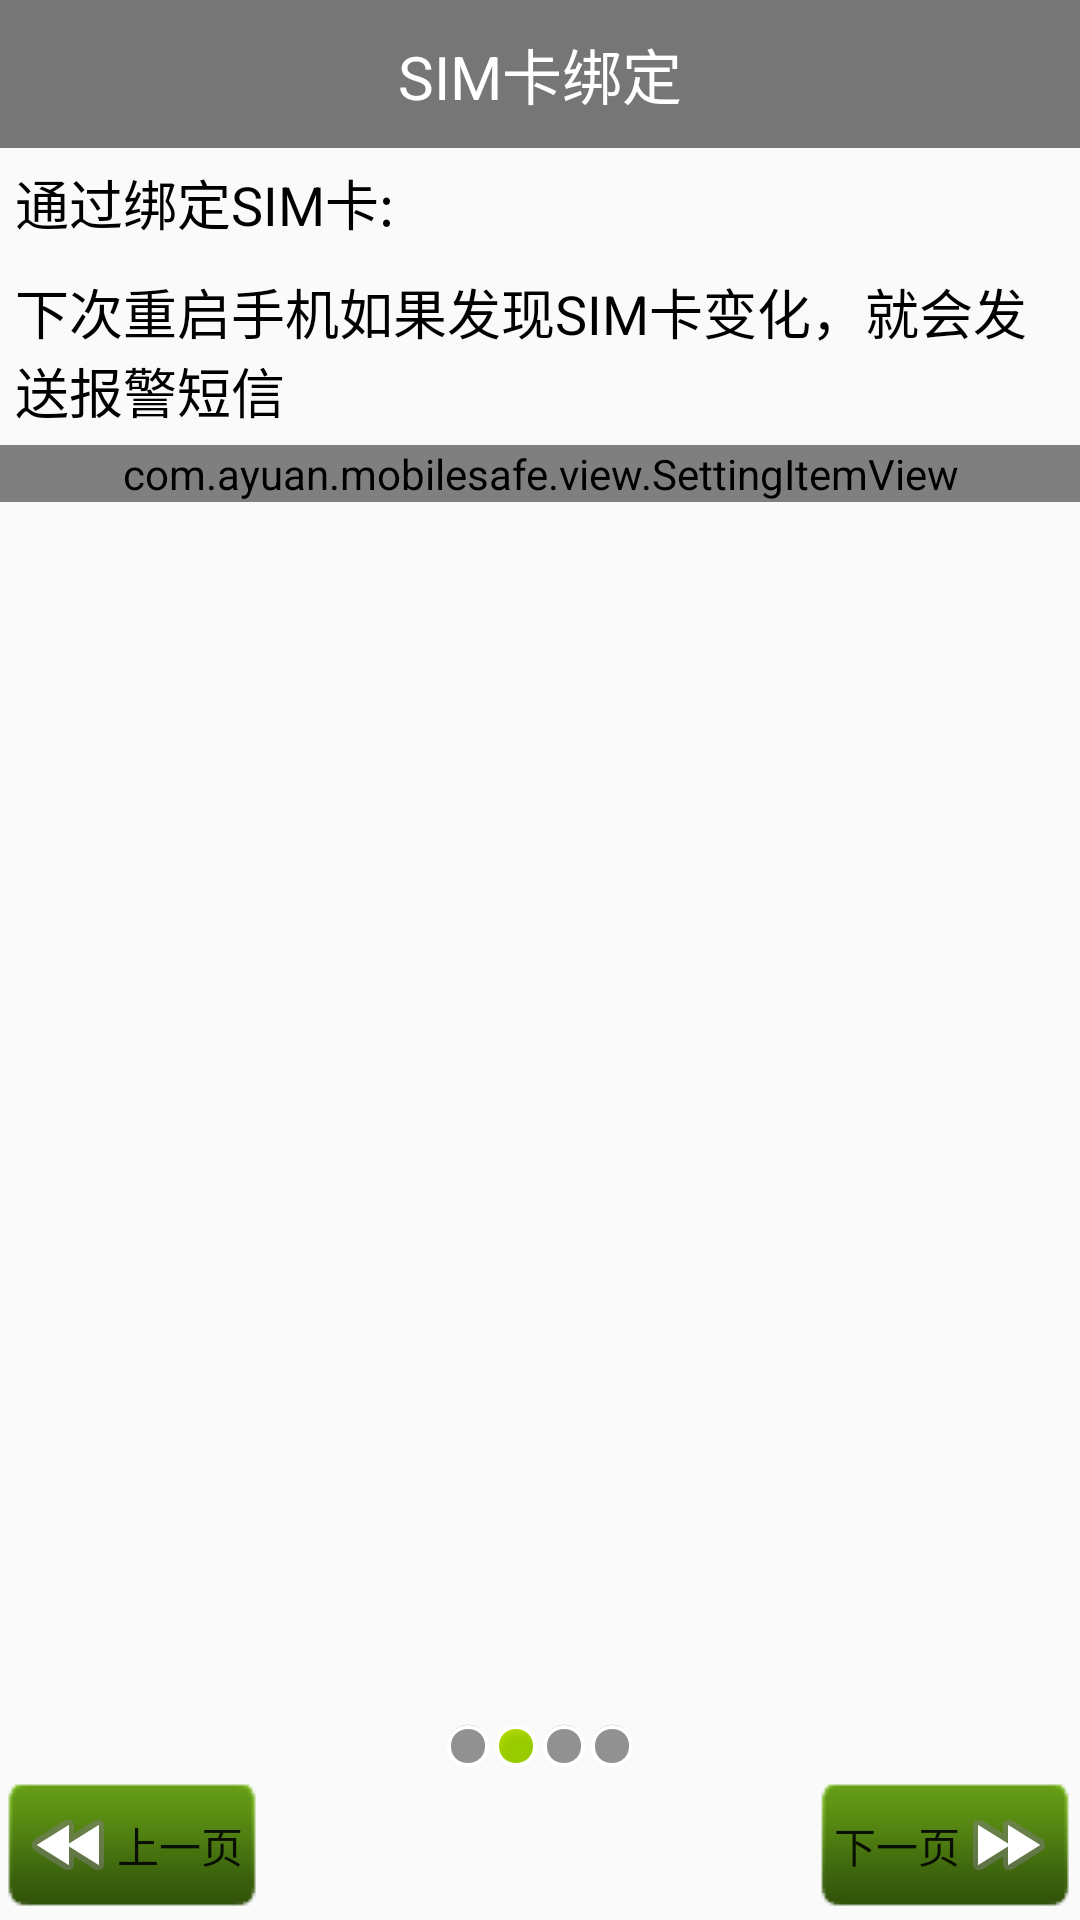

Icon bounding boxes for this 1080*1920 phone screenshot, format [left=x1, top=y1, right=x2, bottom=y2]:
presence online: [left=499, top=1729, right=533, bottom=1763]
